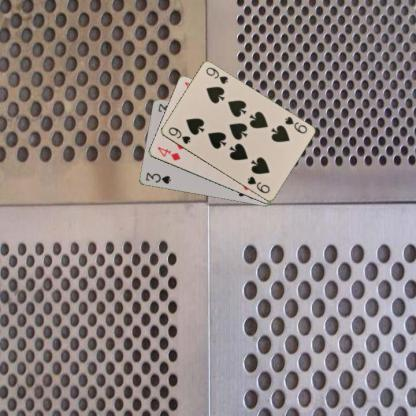3s: (143, 170, 172, 185)
4d: (155, 144, 181, 162)
9s: (165, 124, 192, 146), (282, 114, 308, 135)
